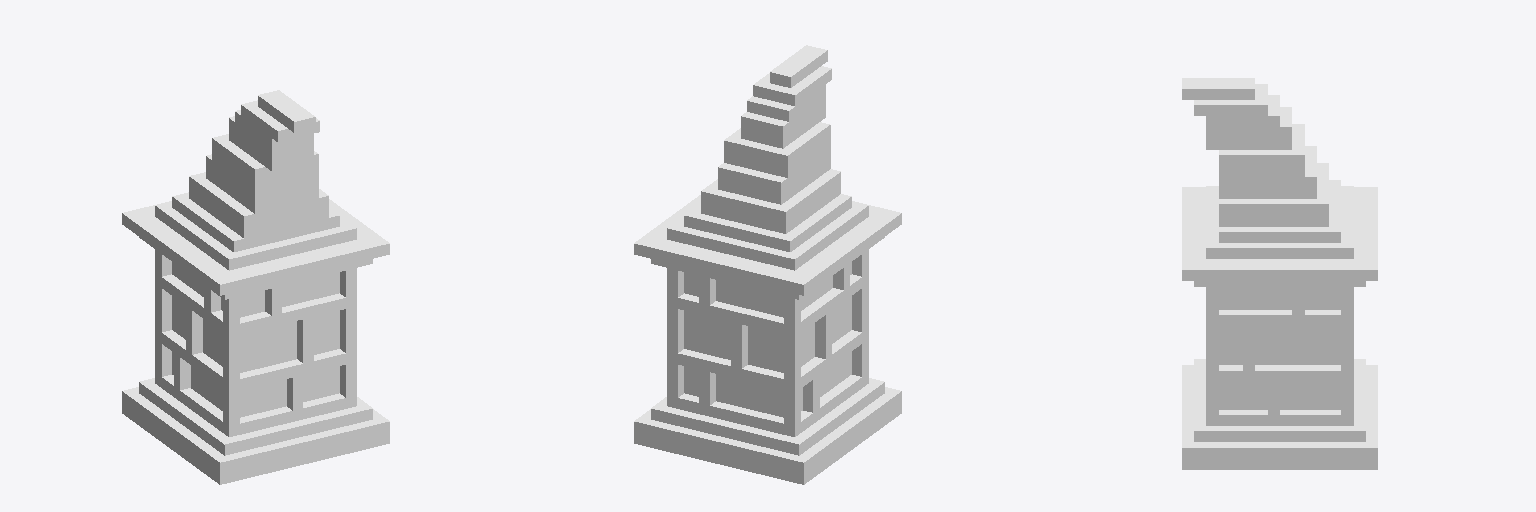
Rendered from deco_4.obj.
3 renders of one model, left to right at view 1: azimuth 30°, elevation 25°; view 2: azimuth 150°, elevation 25°; view 3: azimuth 270°, elevation 25°, orthographic.
Bounding box in the file's own units: 16 × 31 × 16.